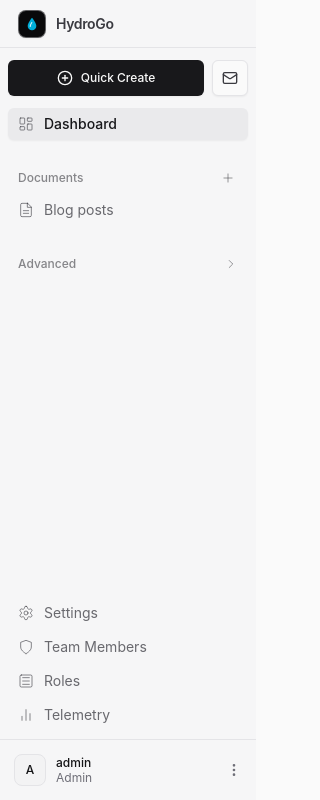
it: Sidebar › expands the Advanced group when its header is clicked
Click the button with test id "nav-group-Advanced".
click(128, 264)  # box [18,256,238,272]
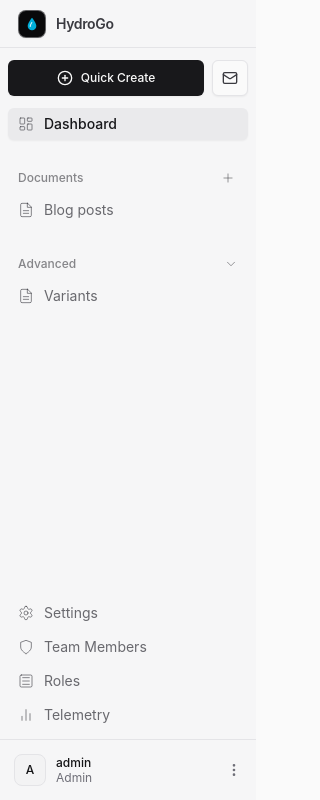
Expected: the link titled "Variants" is shown, [18,287,98,304]
